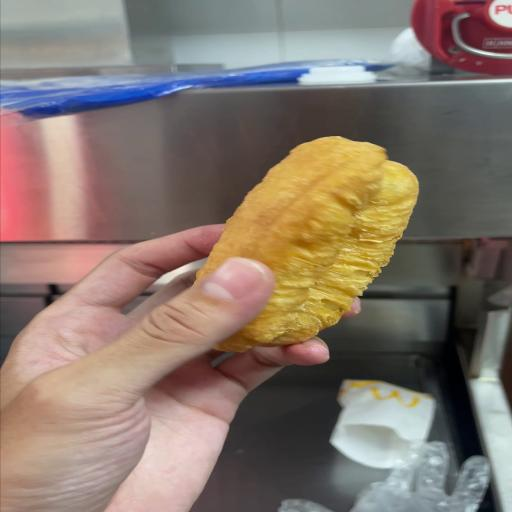brand_golden_good: (200, 138, 418, 350)
